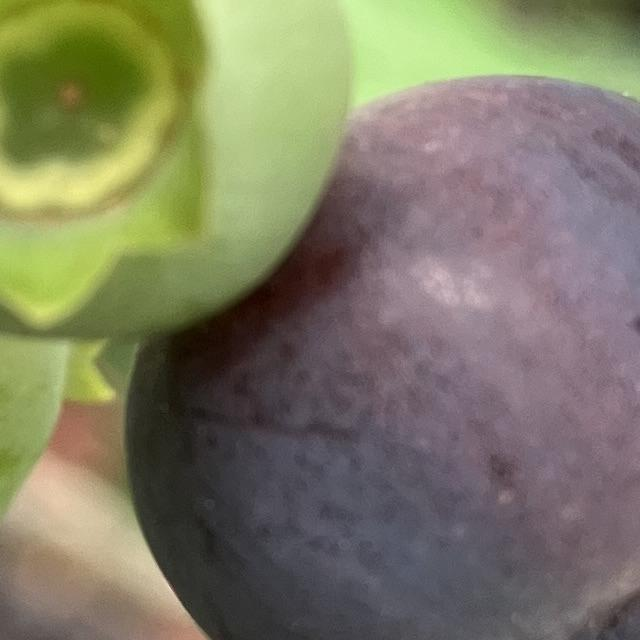Blueberries: (106, 62, 640, 640)
